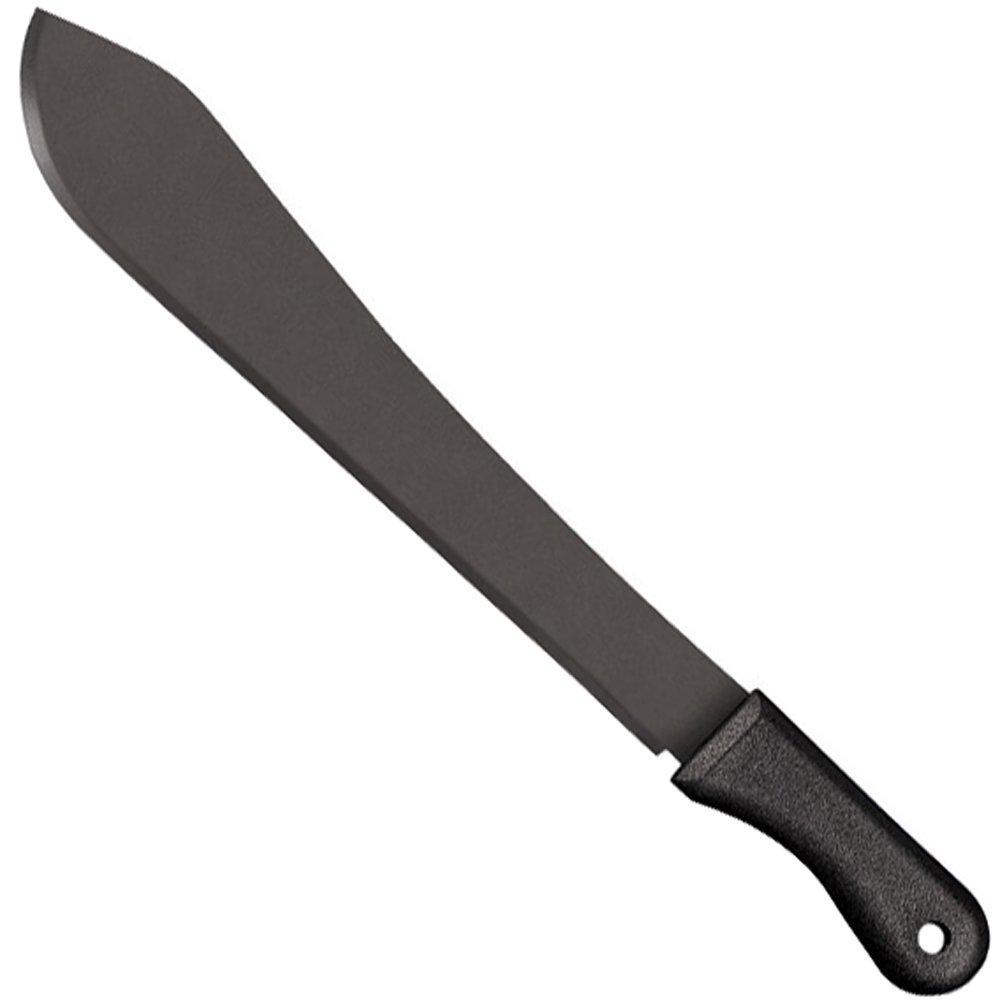facao: (18, 9, 982, 974)
